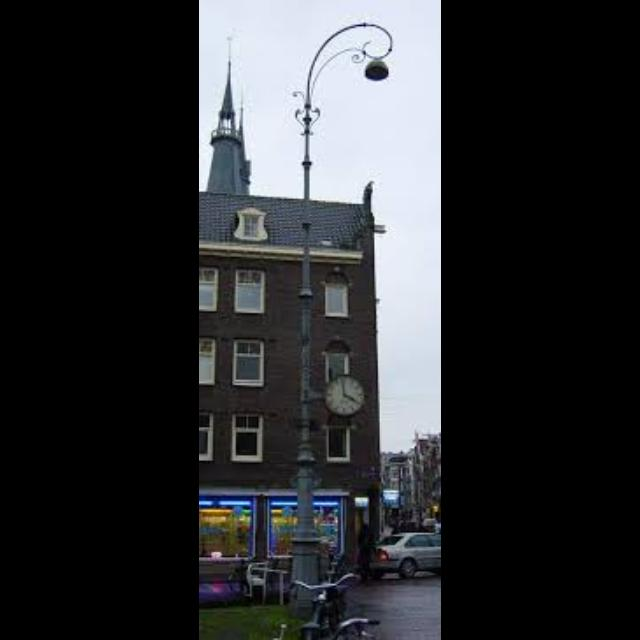Street-Lamp: (282, 18, 398, 614)
